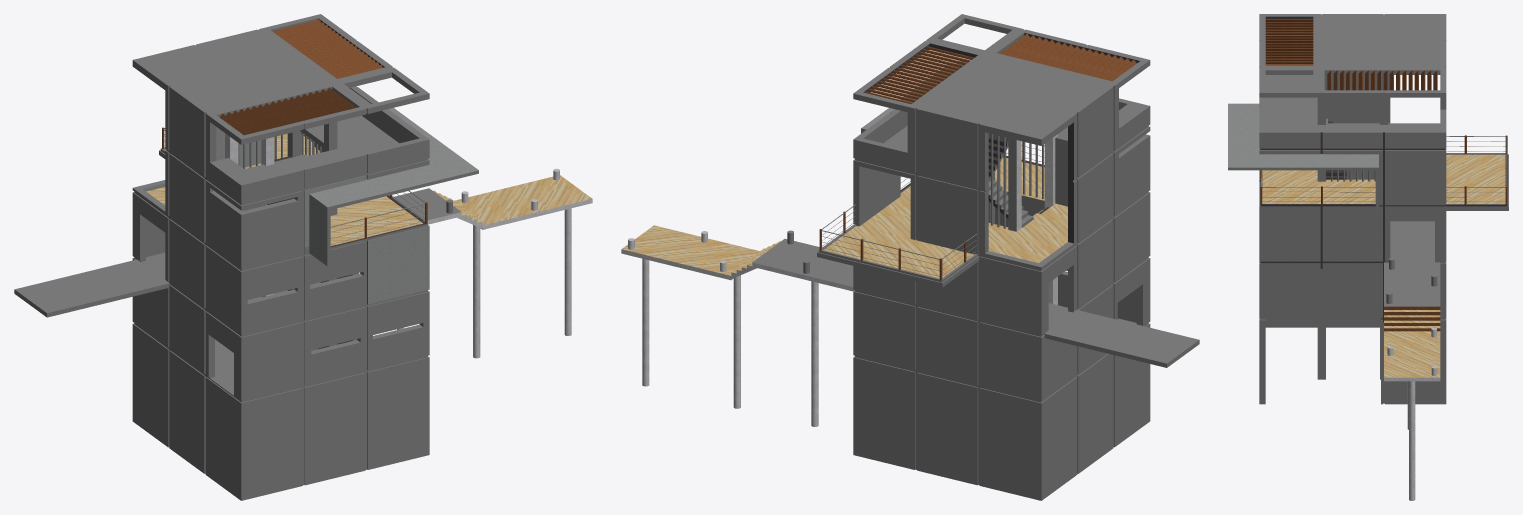
The model's file is GLB01.glb.
3 renders of one model, left to right at view 1: azimuth 30°, elevation 25°; view 2: azimuth 150°, elevation 25°; view 3: azimuth 270°, elevation 25°, orthographic. The views are drawn at different scales.
Bounding box in the file's own units: 26.07 × 16.51 × 13.5.
9 materials, 8 textured.
